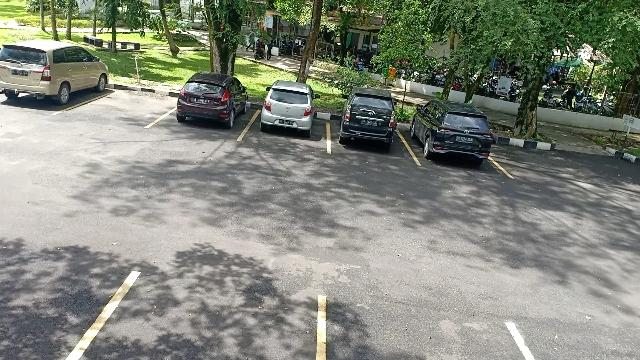empty: (87, 84, 167, 128)
occupied: (1, 64, 108, 114), (408, 114, 497, 168), (168, 88, 250, 139), (248, 102, 330, 152), (328, 110, 406, 154)
